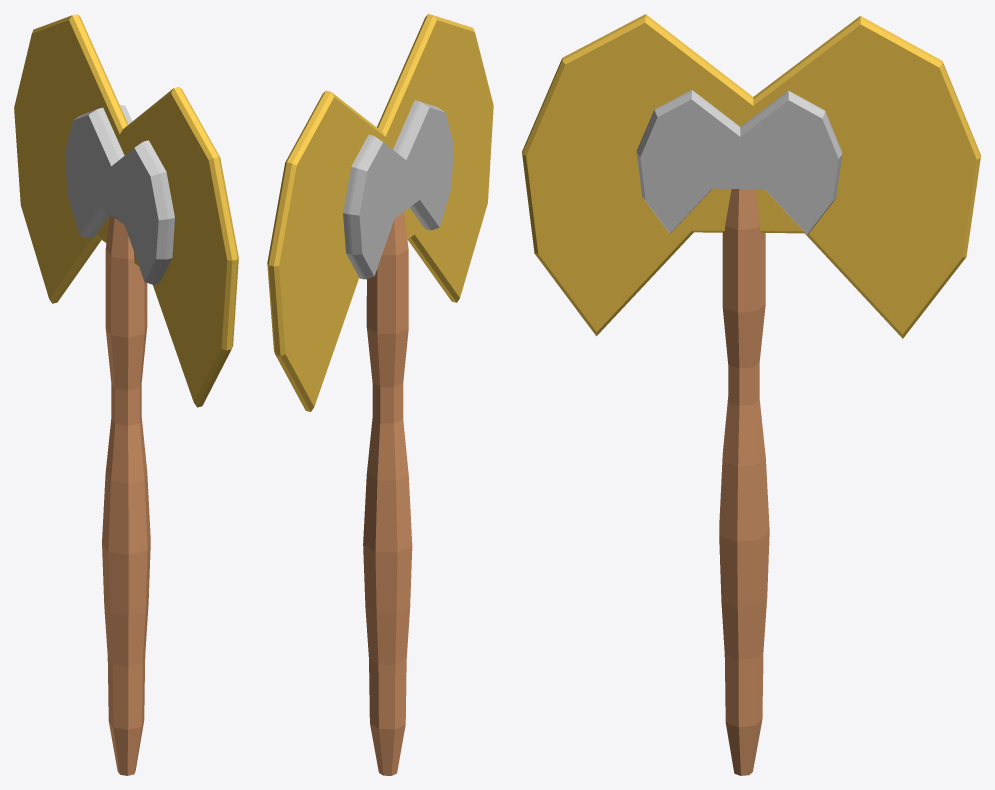
Rendered from axe1.fbx.
3 renders of one model, left to right at view 1: azimuth 30°, elevation 25°; view 2: azimuth 150°, elevation 25°; view 3: azimuth 270°, elevation 25°, orthographic. The views are drawn at different scales.
Visible parts, largest first — view 1: axe1; view 2: axe1; view 3: axe1.
Boxes of the visible parts, x1,y1,x2,y2 form: axe1: (14, 14, 238, 775); axe1: (267, 14, 493, 775); axe1: (522, 14, 980, 775).
Size of the model in its own units: 5.84 by 94.28 by 51.68.
